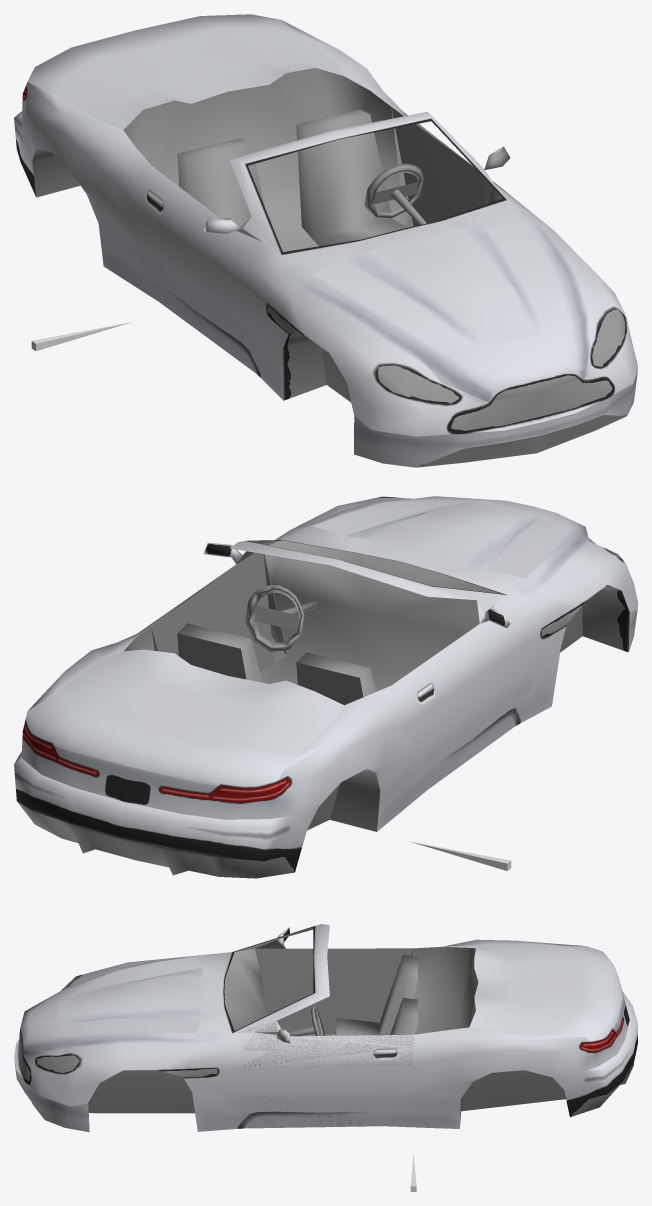
3 views of the same model, one above another, from view 1: azimuth 30°, elevation 25°; view 2: azimuth 150°, elevation 25°; view 3: azimuth 270°, elevation 25° (orthographic). The views are drawn at different scales.
Parts seen in each view (by area): view 1: DZ1BodyLores, DZ3BodyDoorCut, DZ2BodyWindowed, DoorL, EnterR; view 2: DZ1BodyLores, DZ3BodyDoorCut, DZ2BodyWindowed, DoorL, EnterR; view 3: DZ1BodyLores, DZ3BodyDoorCut, DZ2BodyWindowed, DoorR, DoorL.
Part boxes in pixels (x1,y1,x2,y2): DZ1BodyLores: [14, 14, 637, 467]; DZ3BodyDoorCut: [31, 68, 625, 467]; DZ2BodyWindowed: [58, 16, 584, 465]; DoorL: [391, 107, 511, 226]; EnterR: [31, 321, 133, 351]; DZ1BodyLores: [14, 496, 637, 872]; DZ3BodyDoorCut: [18, 496, 624, 878]; DZ2BodyWindowed: [71, 501, 629, 856]; DoorL: [151, 543, 274, 671]; EnterR: [410, 841, 511, 870]; DZ1BodyLores: [14, 924, 637, 1132]; DZ3BodyDoorCut: [18, 927, 633, 1124]; DZ2BodyWindowed: [14, 927, 637, 1127]; DoorR: [255, 940, 413, 1035]; DoorL: [239, 1021, 414, 1127].
Size of what is drawn, in the model's own units: 331 by 137 by 511.
